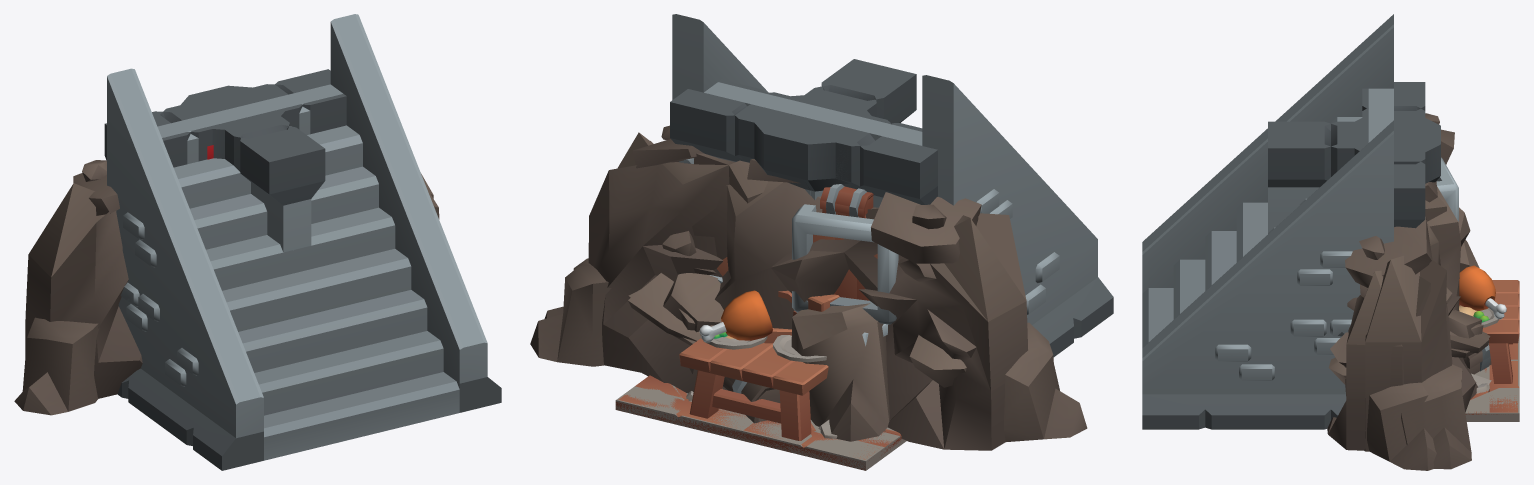
The model's file is dungeon.glb.
3 views of the same model, side by side, from view 1: azimuth 30°, elevation 25°; view 2: azimuth 150°, elevation 25°; view 3: azimuth 270°, elevation 25° (orthographic). The views are drawn at different scales.
Visible parts, largest first — view 1: stairs, rubble_large, wall_corner, wall_arched, wall_pillar, pillar_decorated; view 2: rubble_large, rubble_half, stairs, table_long_decorated_A, box_stacked, wall_pillar, wall_arched, floor_tile_large, wall_corner, floor_wood_large, wall, wall_half (+2 smaller); view 3: stairs, rubble_half, rubble_large, wall_corner, wall_arched, table_long_decorated_A, wall, wall_pillar, floor_tile_large, box_stacked, floor_wood_large, floor_dirt_large_rocky.
Boxes of the visible parts, x1,y1,x2,y2 form: stairs: (107, 14, 501, 470); rubble_large: (14, 160, 439, 415); wall_corner: (187, 114, 325, 252); wall_arched: (104, 69, 346, 167); wall_pillar: (181, 85, 285, 158); pillar_decorated: (190, 86, 277, 129); rubble_large: (544, 141, 1087, 450); rubble_half: (530, 125, 767, 393); stairs: (672, 14, 1113, 357); table_long_decorated_A: (679, 290, 828, 440); box_stacked: (710, 184, 898, 423); wall_pillar: (726, 94, 921, 201); wall_arched: (670, 79, 937, 204); floor_tile_large: (615, 385, 905, 470); wall_corner: (800, 59, 924, 207); floor_wood_large: (615, 375, 903, 470); wall: (726, 106, 936, 204); wall_half: (670, 102, 821, 162); stairs: (1142, 14, 1393, 429); rubble_half: (1345, 197, 1489, 469); rubble_large: (1327, 113, 1490, 470); wall_corner: (1268, 106, 1415, 232); wall_arched: (1362, 82, 1425, 227); table_long_decorated_A: (1459, 265, 1519, 383); wall: (1362, 127, 1425, 228); wall_pillar: (1346, 118, 1440, 183); floor_tile_large: (1465, 335, 1519, 414); box_stacked: (1436, 157, 1491, 374); floor_wood_large: (1465, 343, 1519, 414); floor_dirt_large_rocky: (1465, 373, 1519, 421).
Bounding box in the file's own units: 8.13 × 5.91 × 6.
1 material, 1 textured.
